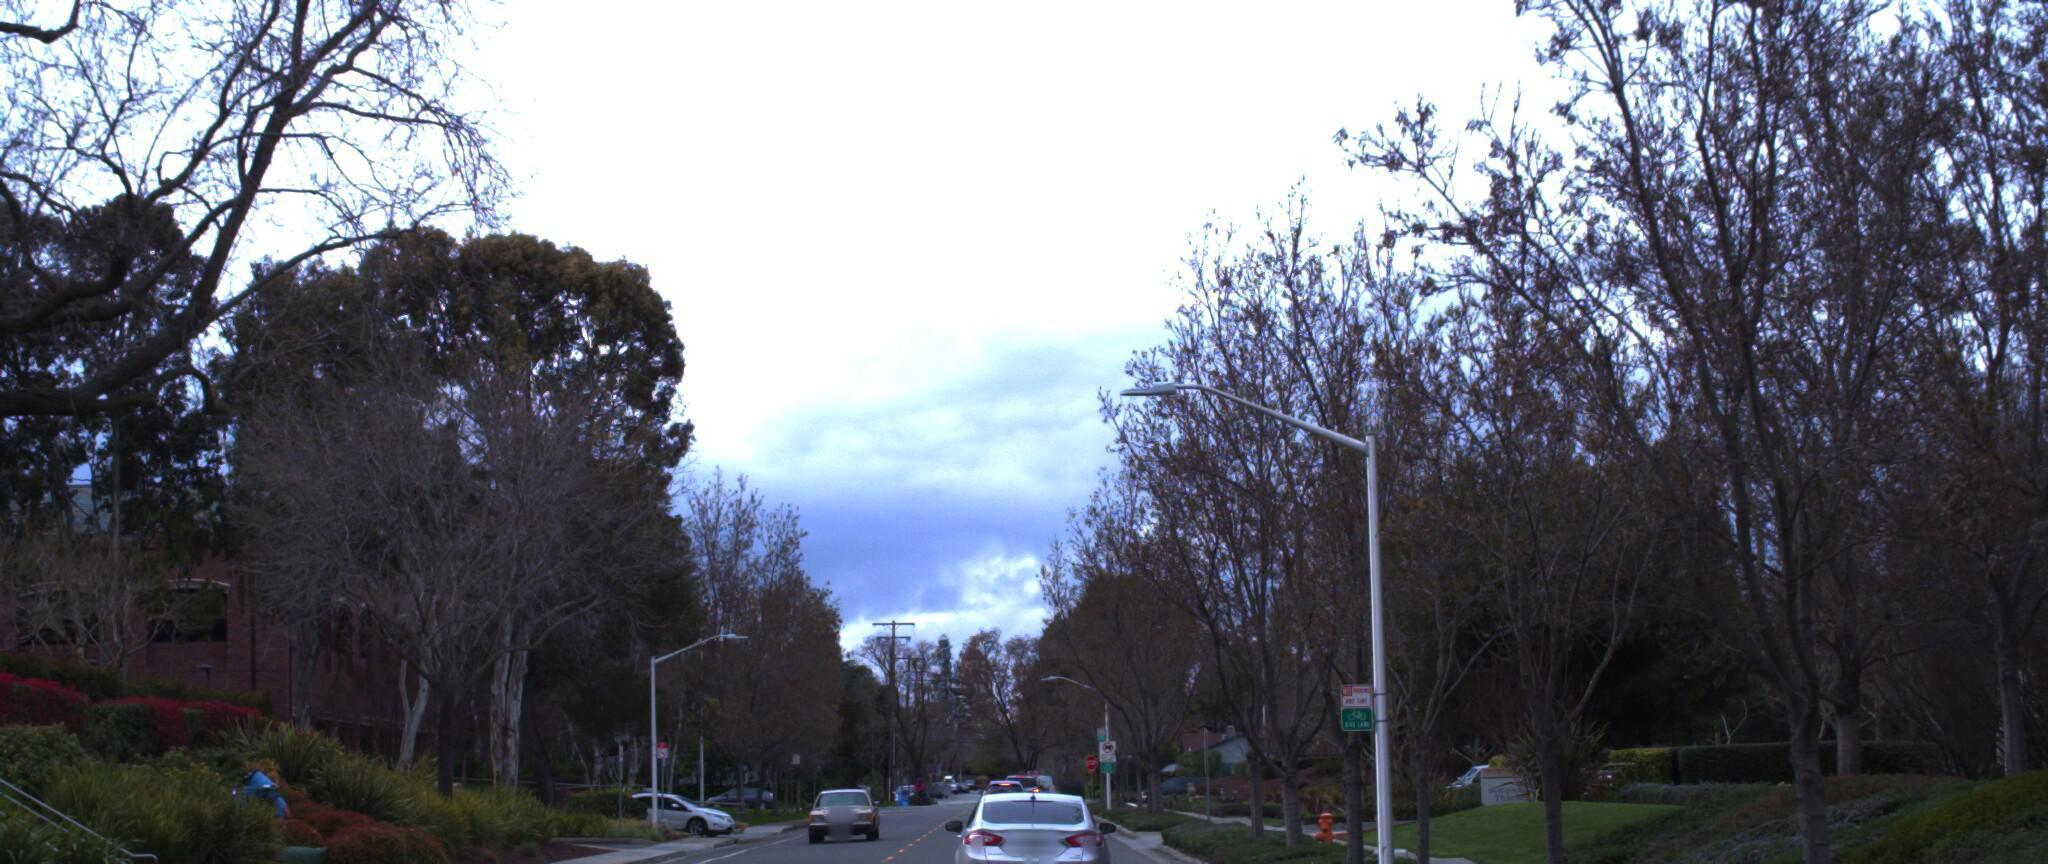car: (927, 774, 1104, 864), (808, 777, 887, 837)
